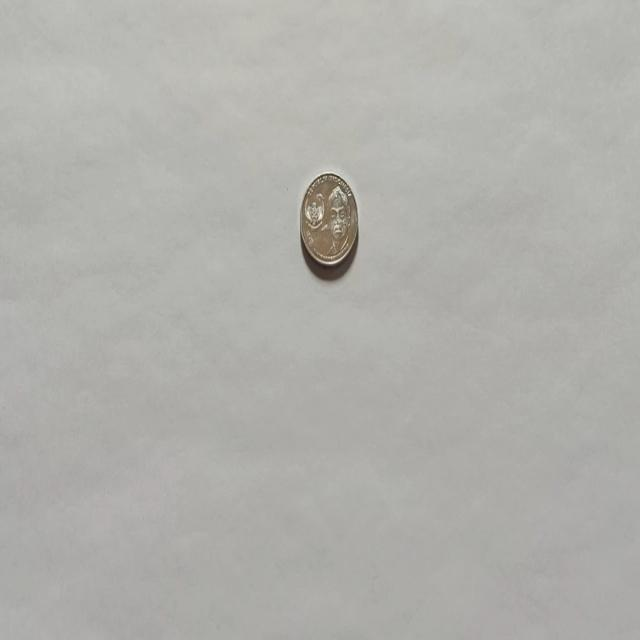dua ratus rupiah: (298, 170, 358, 268)
